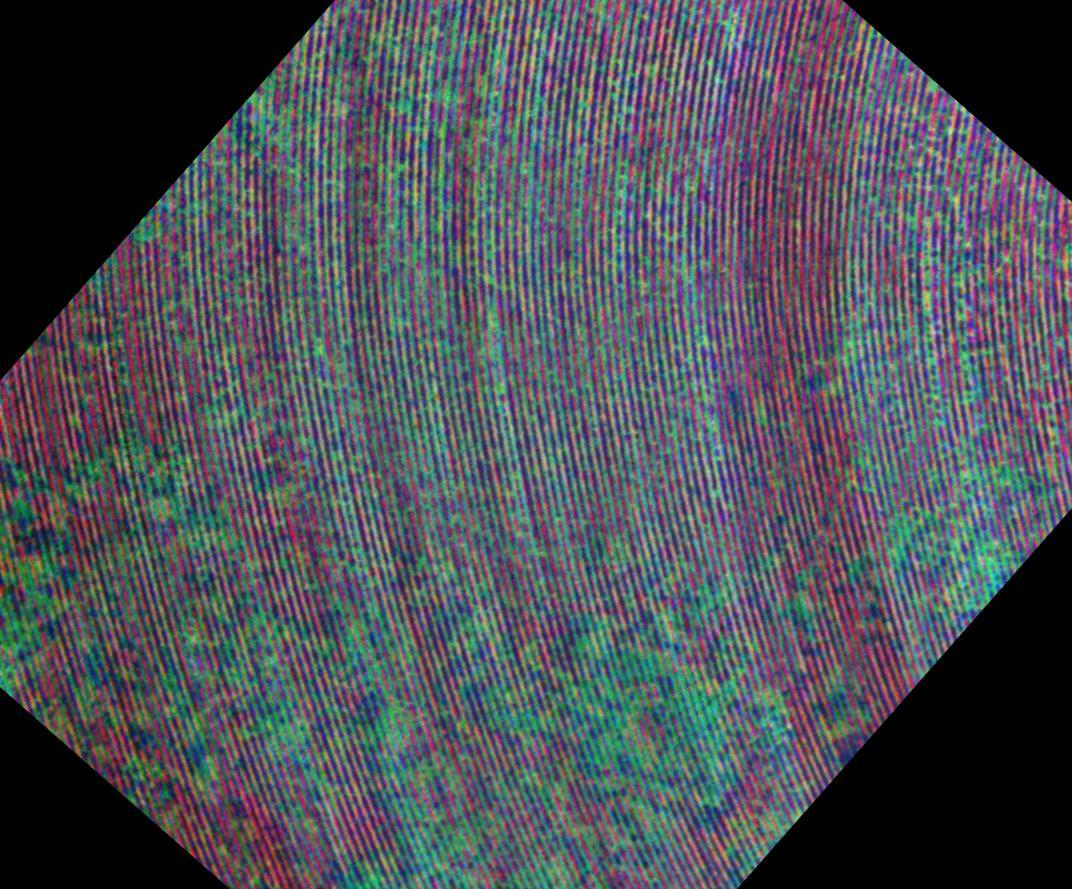dc: (938, 485, 1007, 584), (0, 560, 58, 677), (631, 660, 709, 741), (201, 620, 273, 693), (378, 708, 429, 798), (361, 135, 407, 207)
